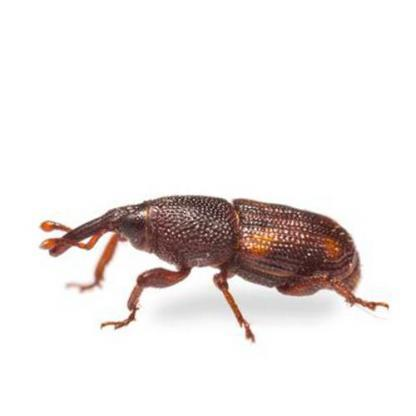rice-bug: (59, 192, 371, 324)
